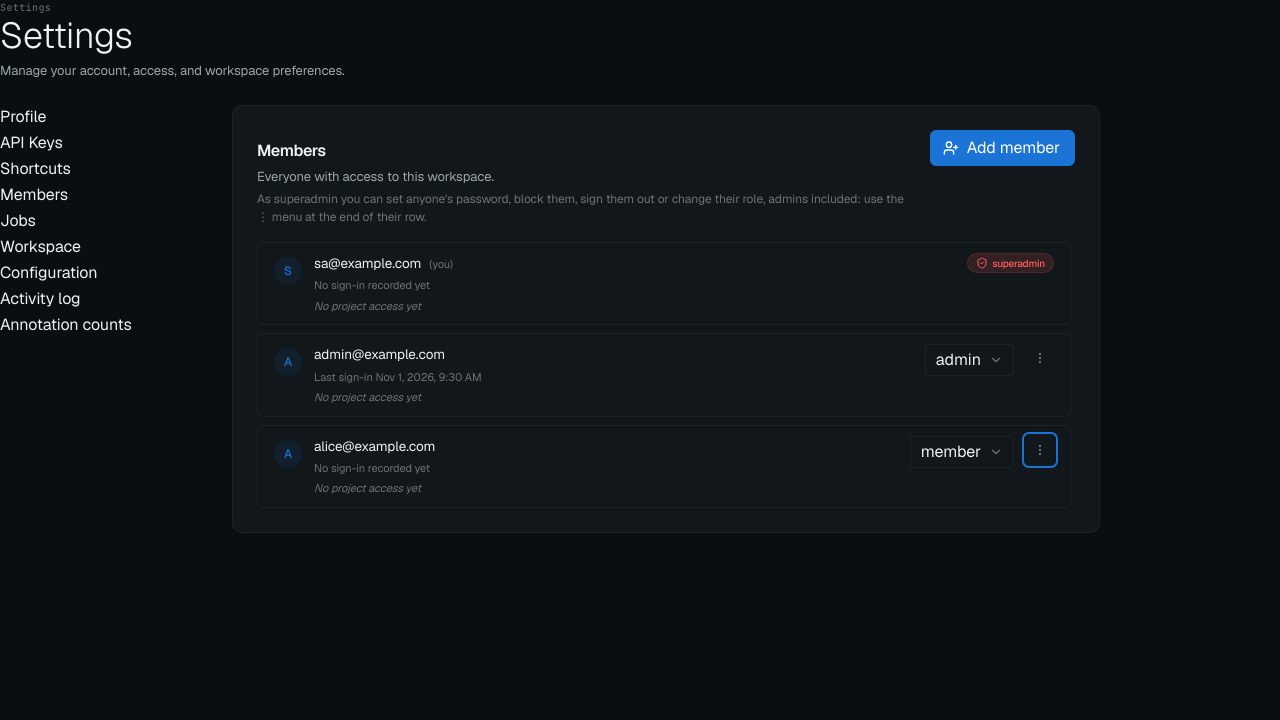
it: Members — superadmin › changes an email and shows why the server refused one
Press Enter in the button named "More actions for alice@example.com", box [1026, 436, 1054, 464]
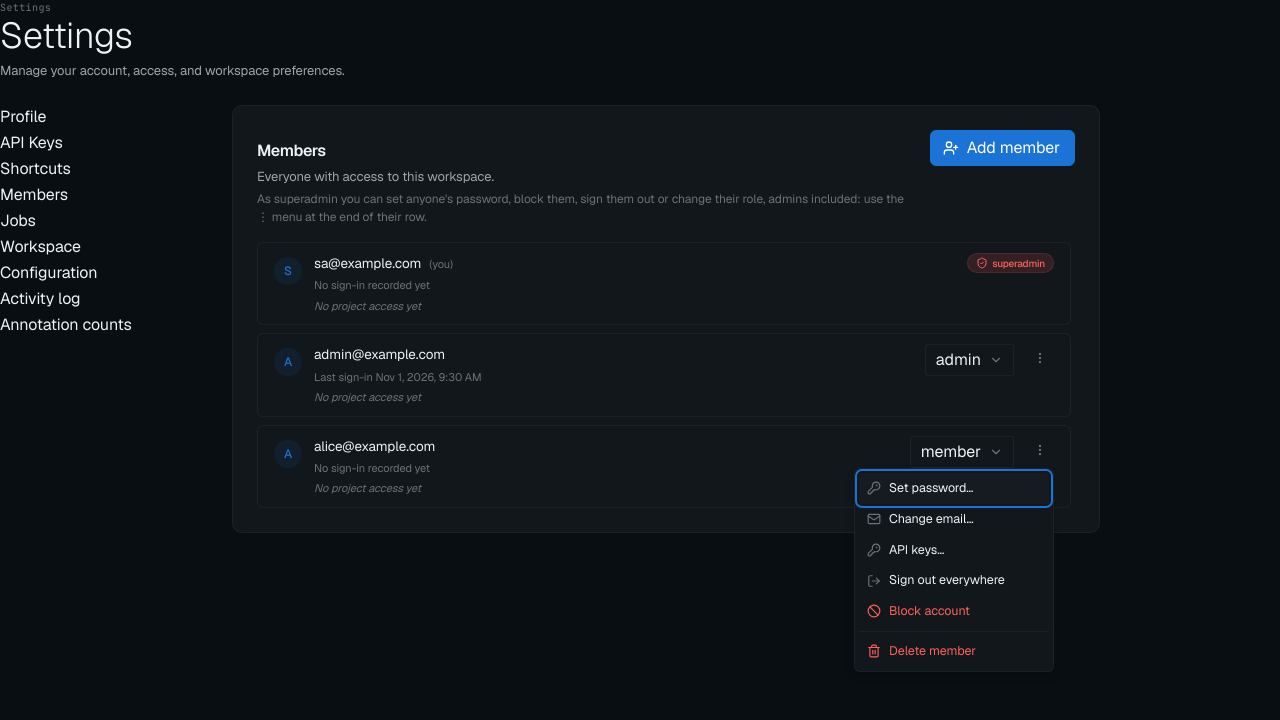
Click the menu item with test id "member-menu-email-member-1" at (920, 518), box [867, 510, 974, 527]
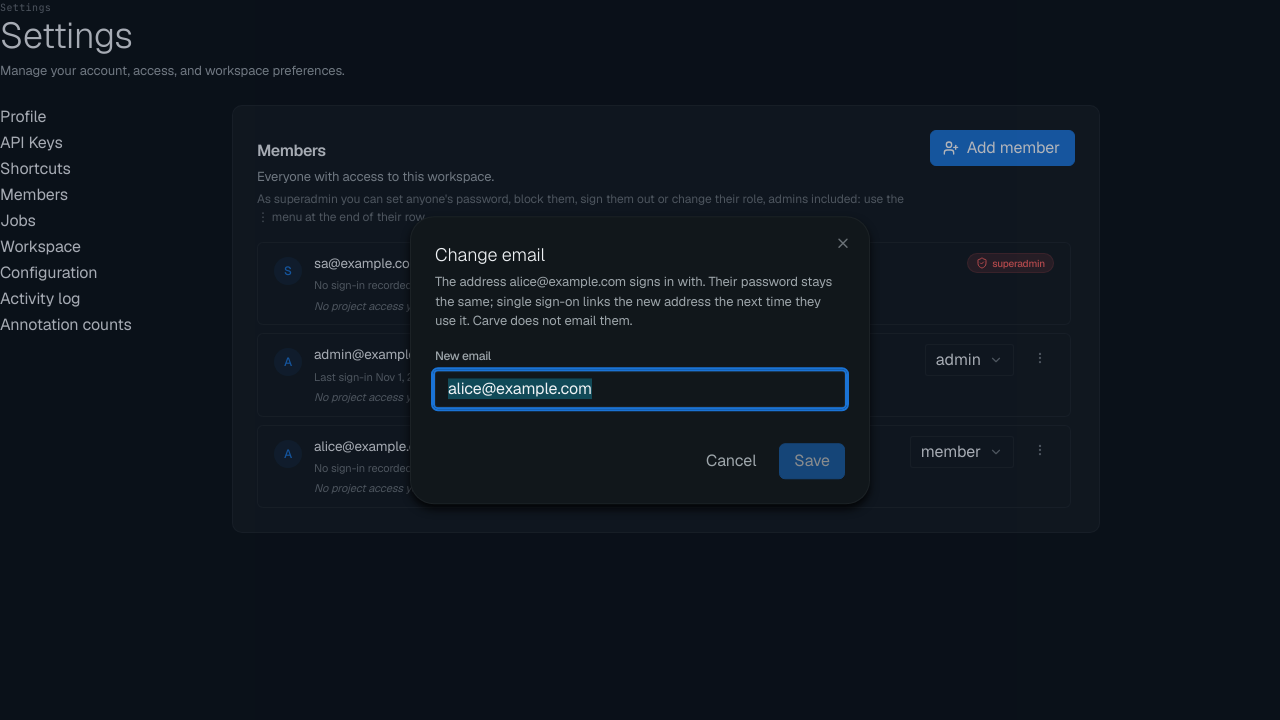
Replace the text in the field with test id "change-email-input" with "gone@example.com" at (640, 389), box [435, 371, 845, 407]
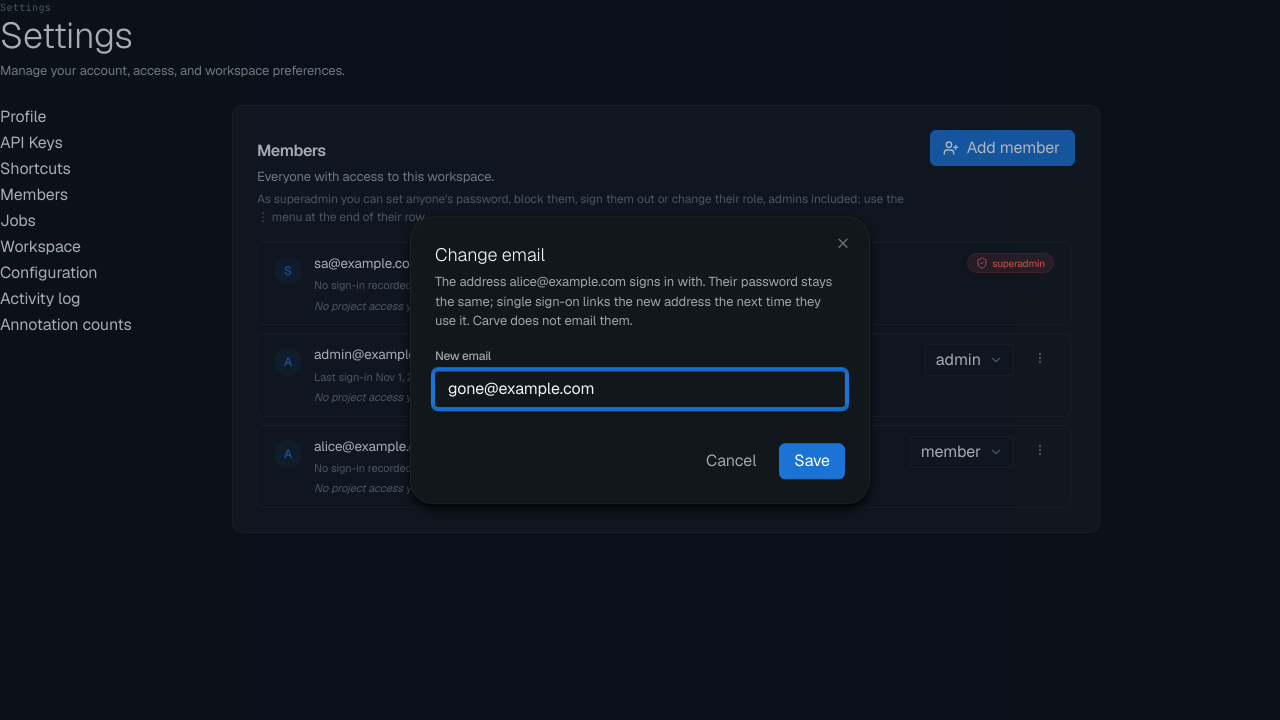
Click the button with test id "change-email-submit" at (812, 461), box [779, 443, 845, 479]
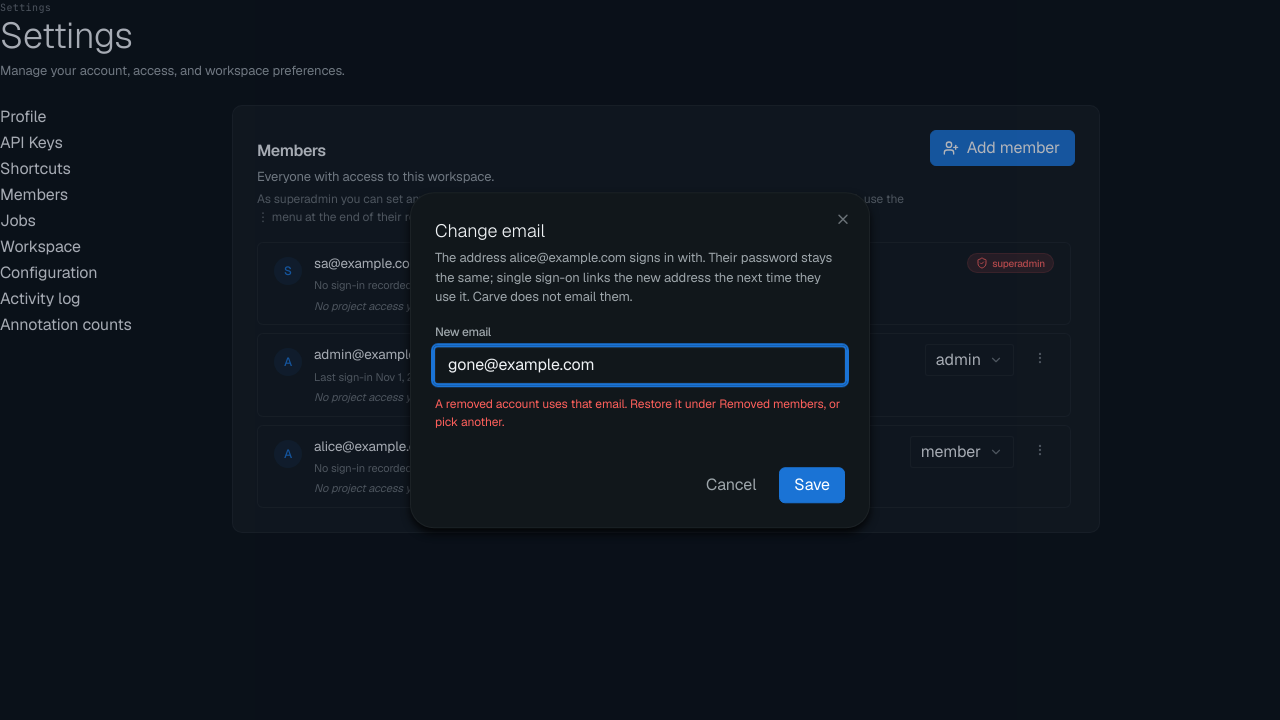
expect the message shows "removed account uses that email": met, box [435, 396, 840, 430]
Replace the text in the field with test id "change-email-input" with "alice@new.example.com" at (640, 365), box [435, 347, 845, 383]
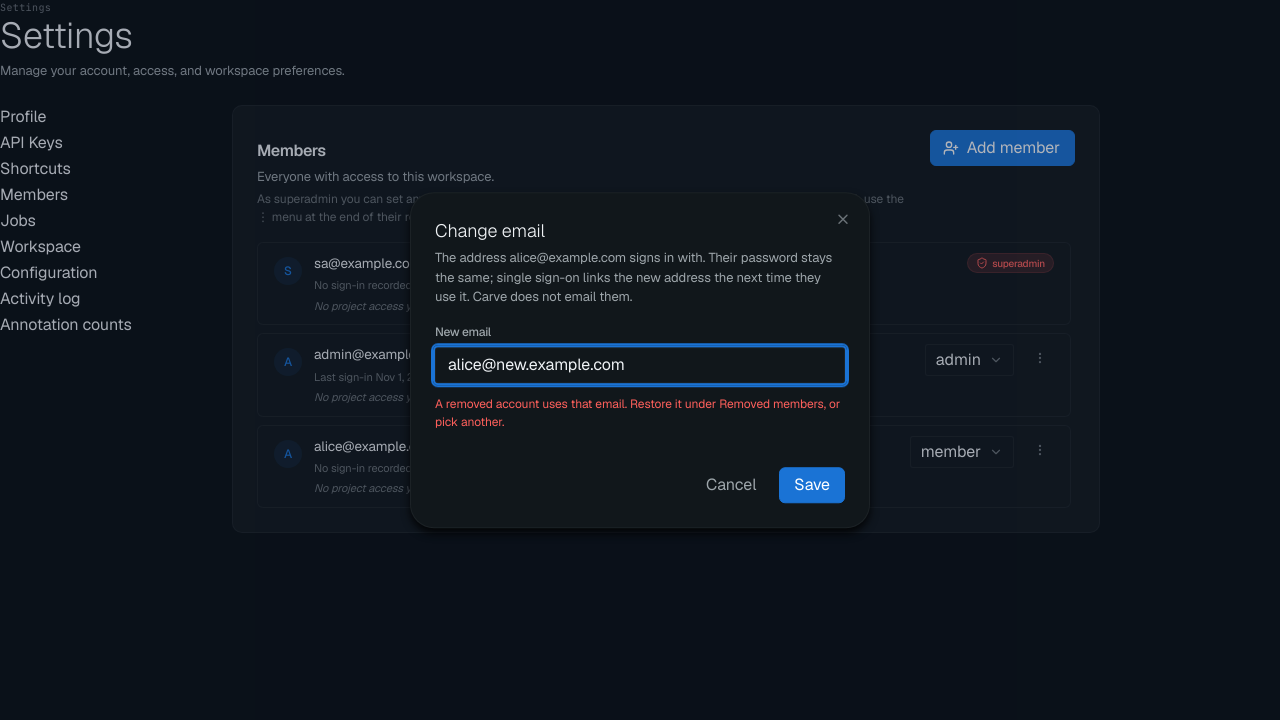
Click the button with test id "change-email-submit" at (812, 485), box [779, 467, 845, 503]
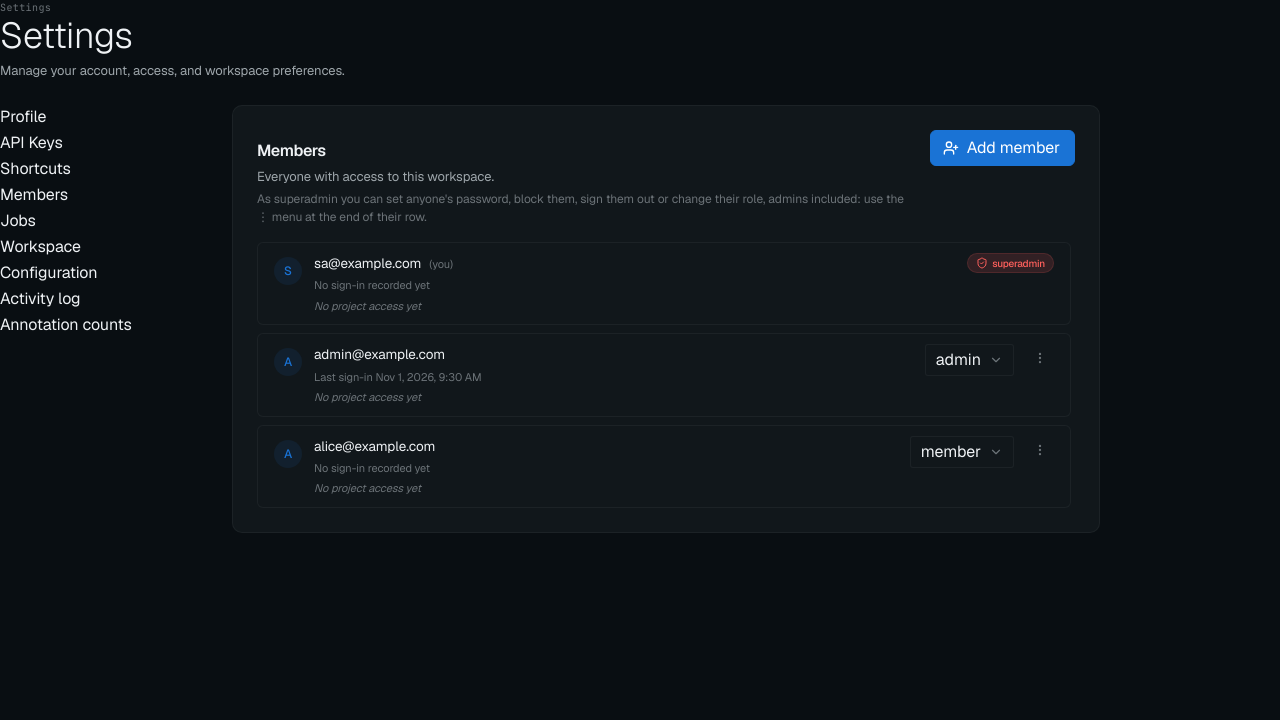
expect the field with test id "change-email-input" is gone: met
